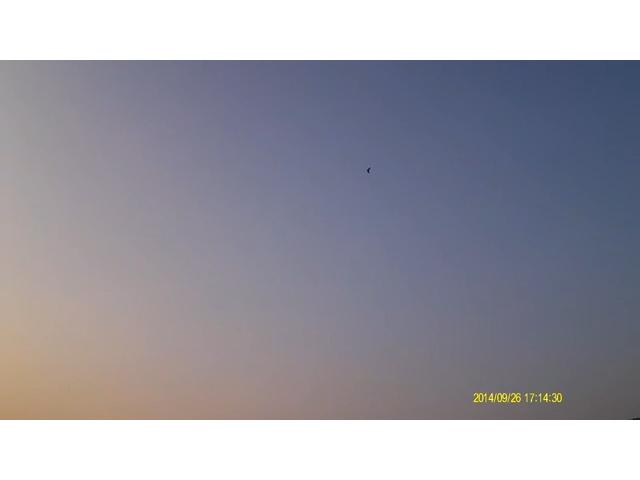Anti-Drone: (361, 164, 381, 178)
